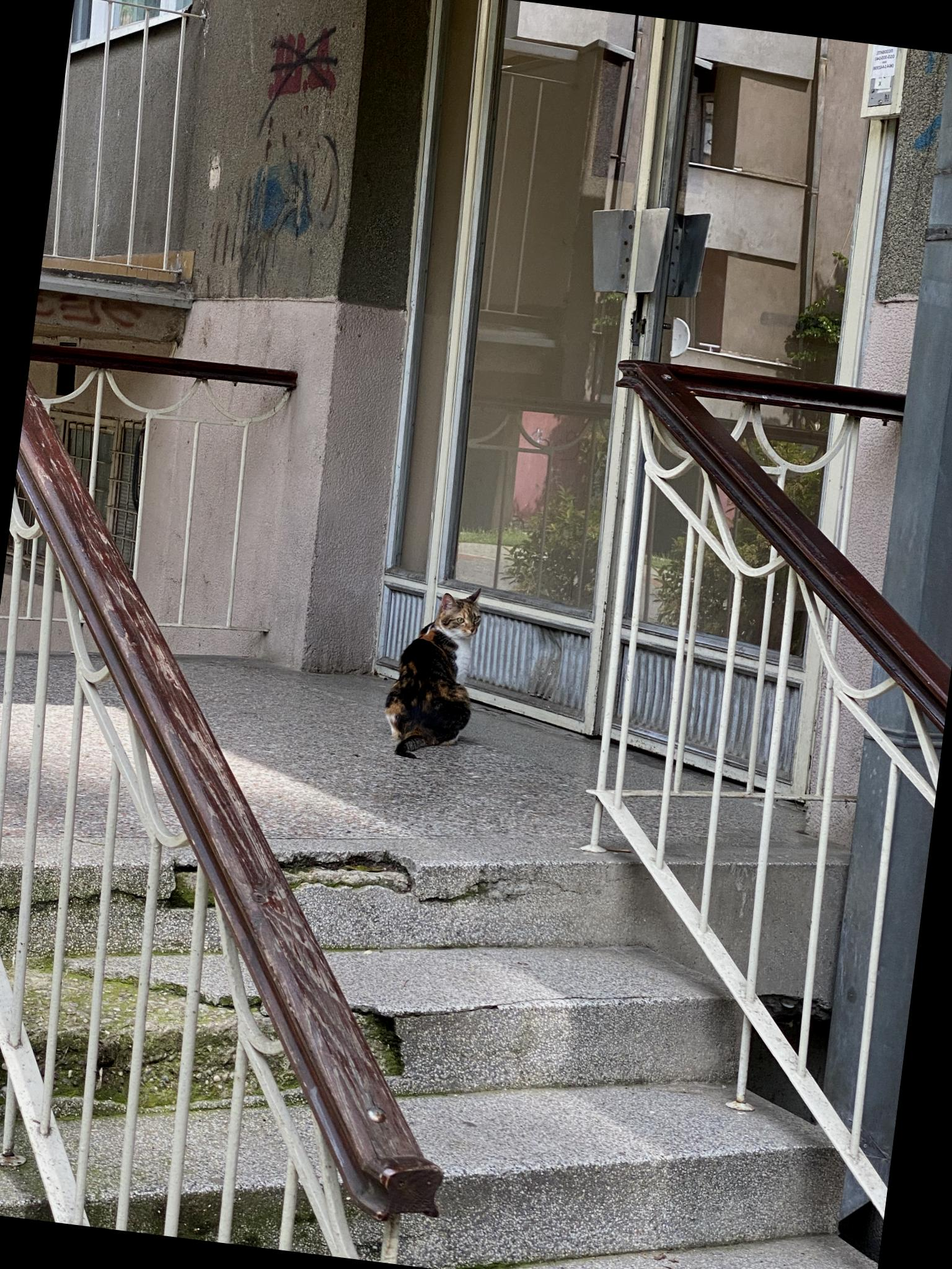macka: (378, 578, 487, 765)
